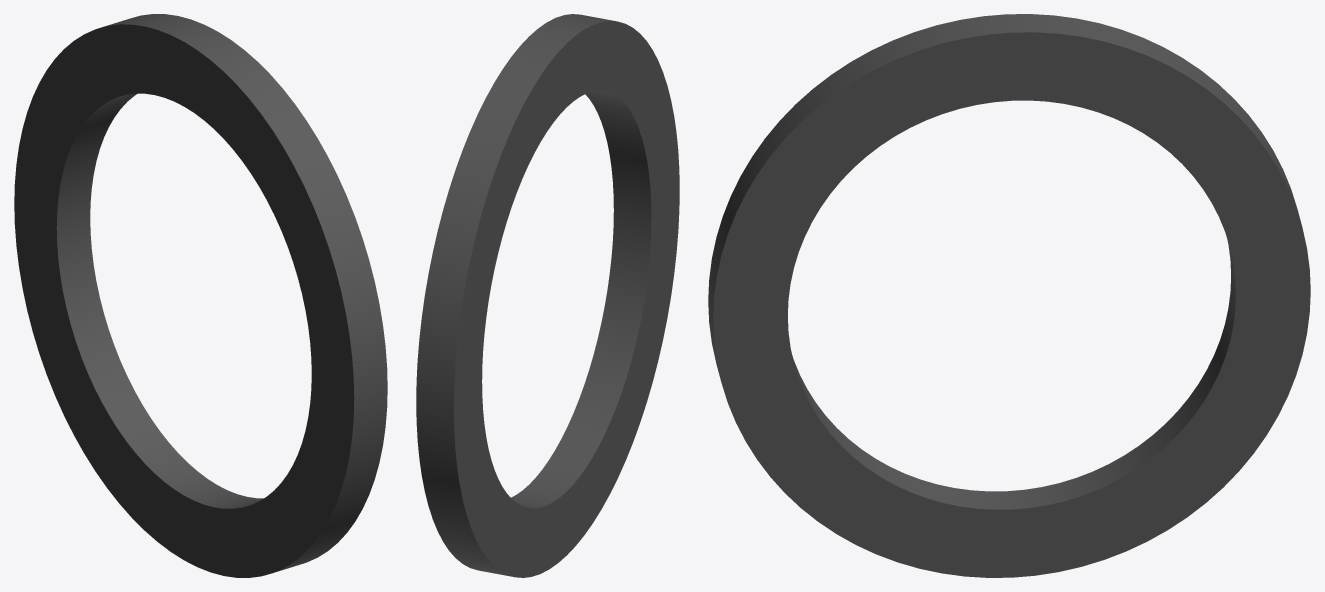
Rendered from goal-model.glb.
3 renders of one model, left to right at view 1: azimuth 30°, elevation 25°; view 2: azimuth 150°, elevation 25°; view 3: azimuth 270°, elevation 25°, orthographic. The views are drawn at different scales.
Parts seen in each view (by area): view 1: mesh_id45; view 2: mesh_id45; view 3: mesh_id45.
Part boxes in pixels (left/top/right/bottom): mesh_id45: left=14, top=14, right=387, bottom=577; mesh_id45: left=416, top=14, right=679, bottom=577; mesh_id45: left=708, top=14, right=1310, bottom=577.
Bounding box in the file's own units: 0.2216 × 1.2 × 1.2.
1 material, 1 textured.
